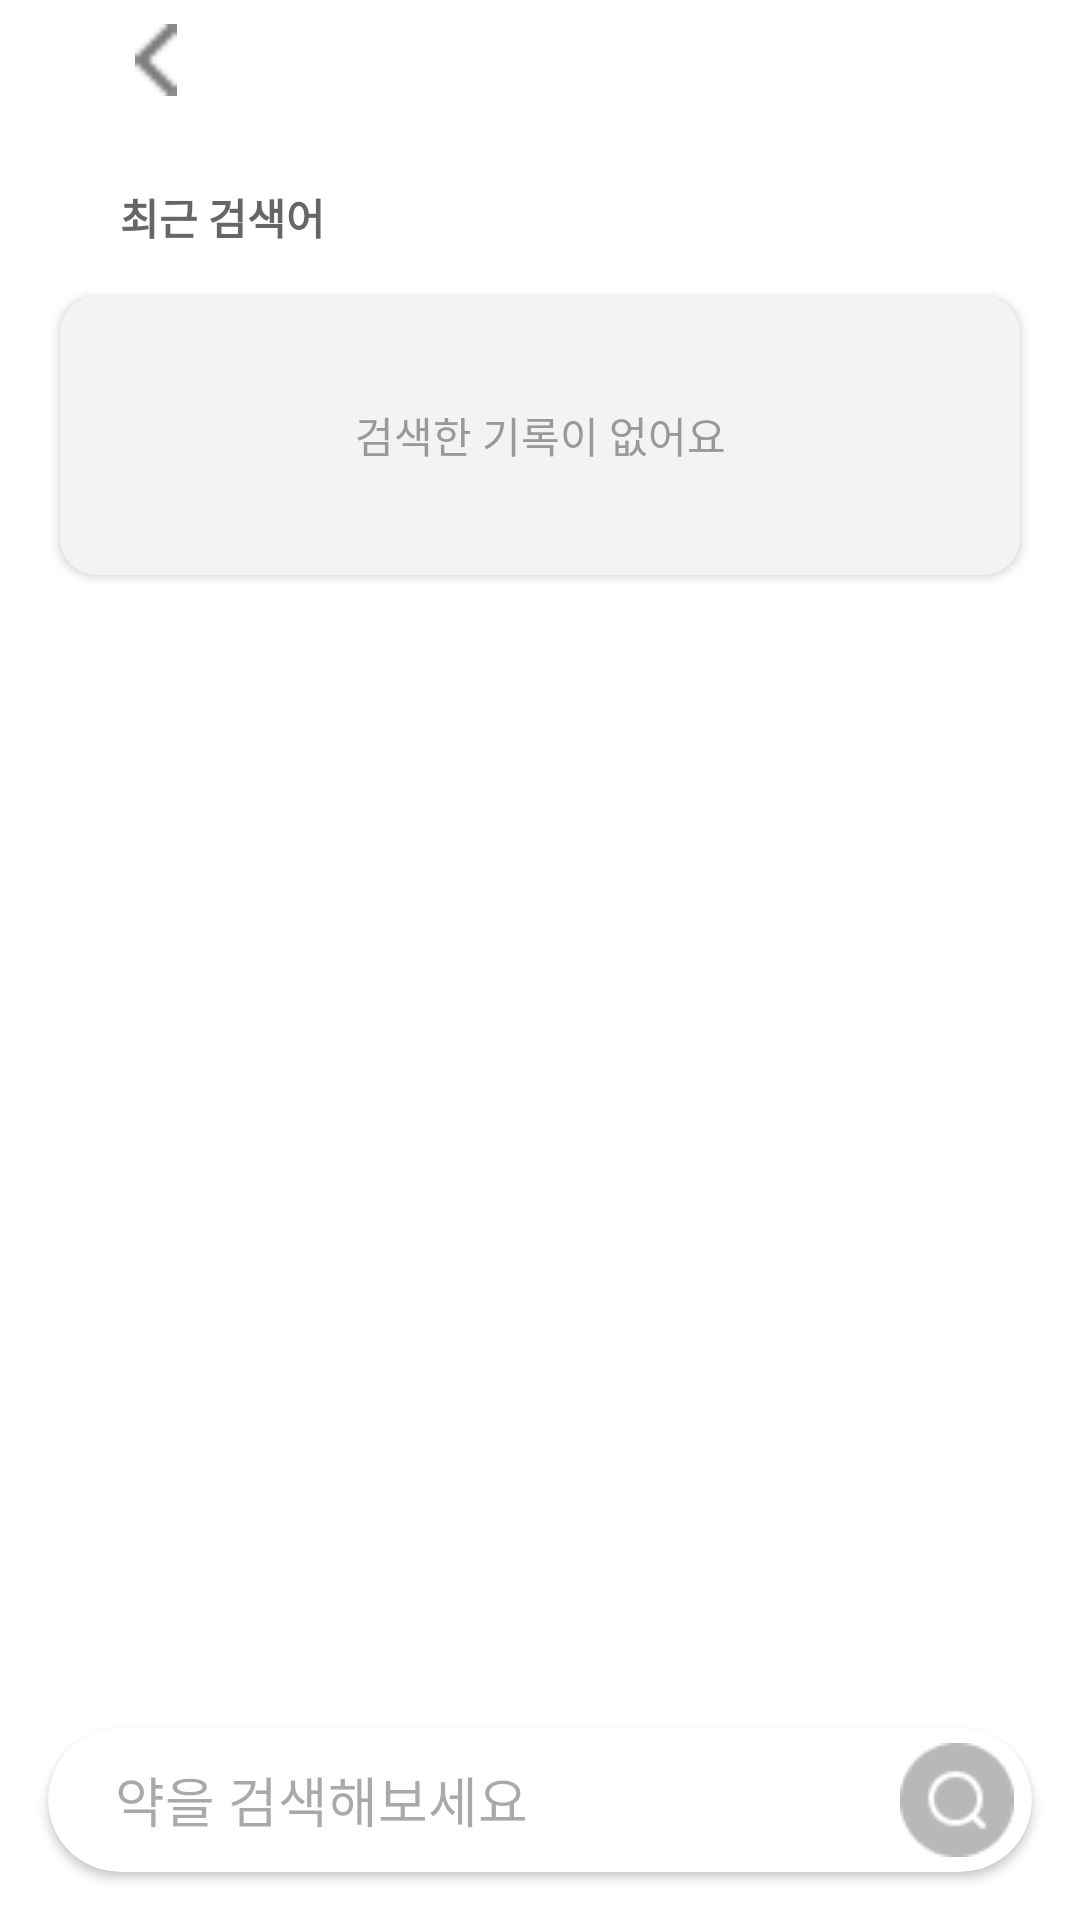

Icons on this 1080w x 1920h Android screen, each with its box as (x1, y1, x2, y2):
back: (135, 24, 177, 96)
search bt: (900, 1743, 1014, 1857)
